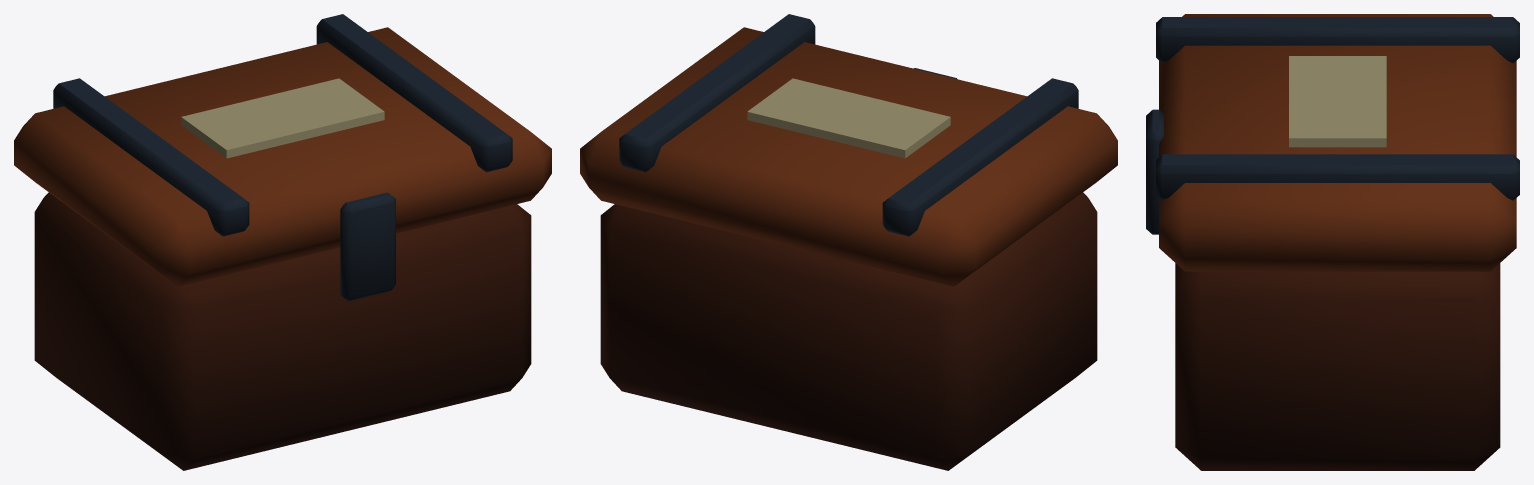
File: Madde_Sap.fbx
3 renders of one model, left to right at view 1: azimuth 30°, elevation 25°; view 2: azimuth 150°, elevation 25°; view 3: azimuth 270°, elevation 25°, orthographic. The views are drawn at different scales.
Visible parts, largest first — view 1: Madde_Sap_Model; view 2: Madde_Sap_Model; view 3: Madde_Sap_Model.
Part boxes in pixels (left/top/right/bottom): Madde_Sap_Model: left=14, top=14, right=551, bottom=470; Madde_Sap_Model: left=580, top=14, right=1117, bottom=470; Madde_Sap_Model: left=1146, top=14, right=1519, bottom=470.
Size of the model in its own units: 0.1275 by 0.085 by 0.0978.
